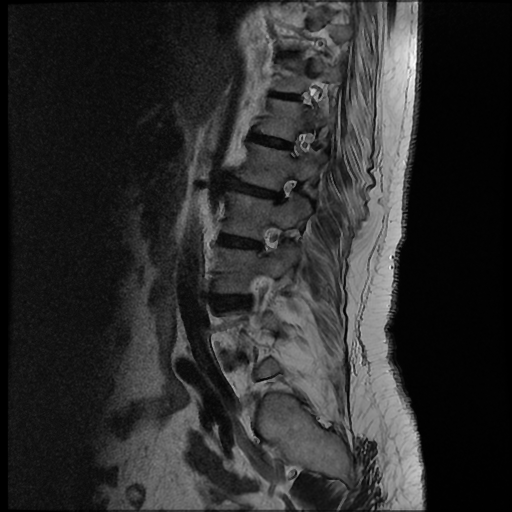RFS0: (254, 219, 297, 265), (266, 170, 304, 214)
